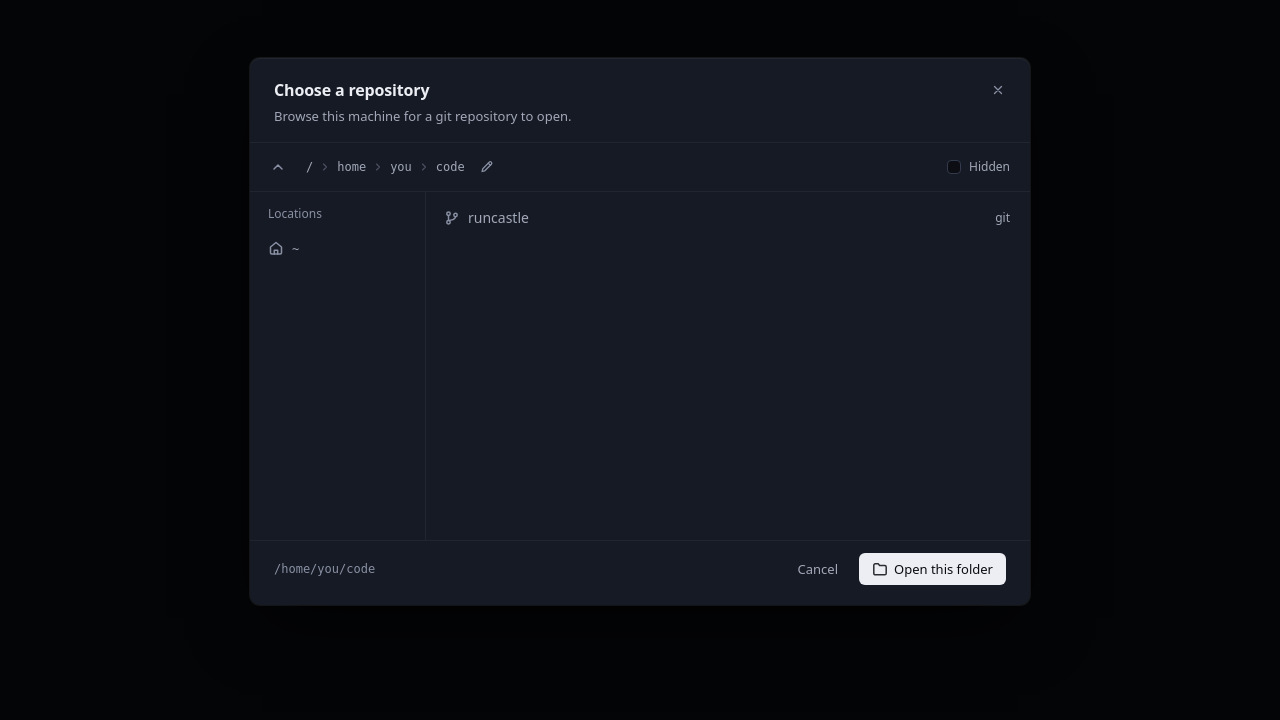
DirectoryPicker › keeps symlinks out of the listing until Hidden is ticked
Expected: the button "mirror" is not shown
Click the checkbox: (954, 167) left=947, top=160, right=961, bottom=174
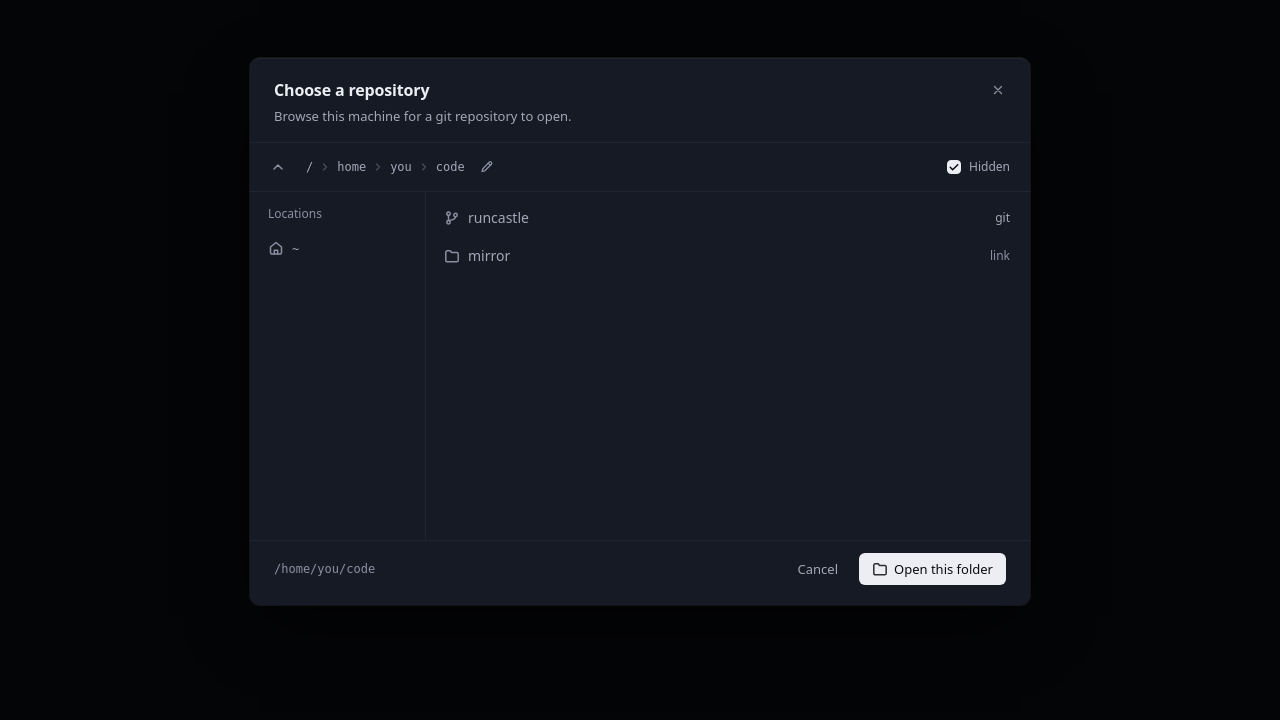
Now the button "mirror link" is shown, box left=434, top=238, right=1022, bottom=274
